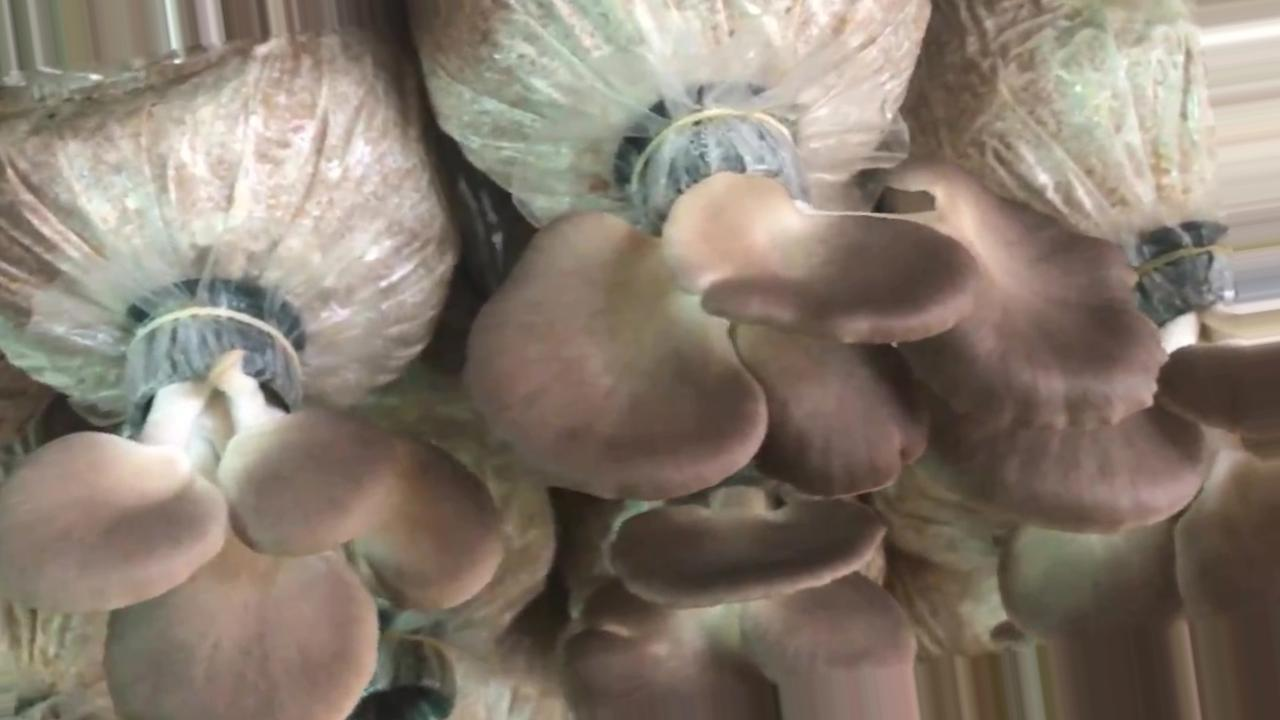nam: (466, 116, 1163, 609), (1, 309, 501, 718), (1000, 244, 1280, 718), (563, 573, 914, 716)
